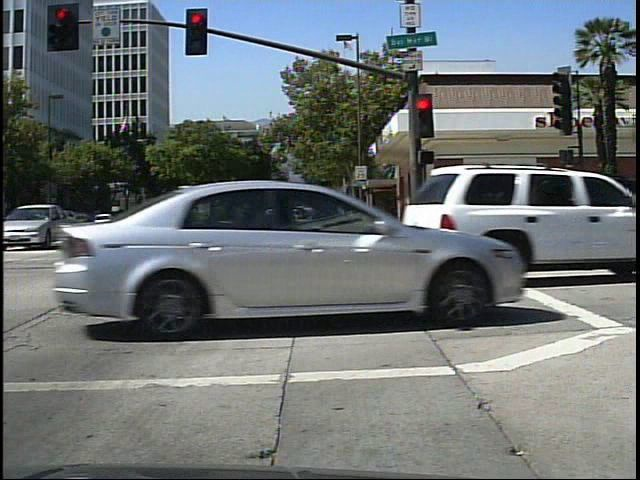person: (290, 203, 303, 221)
